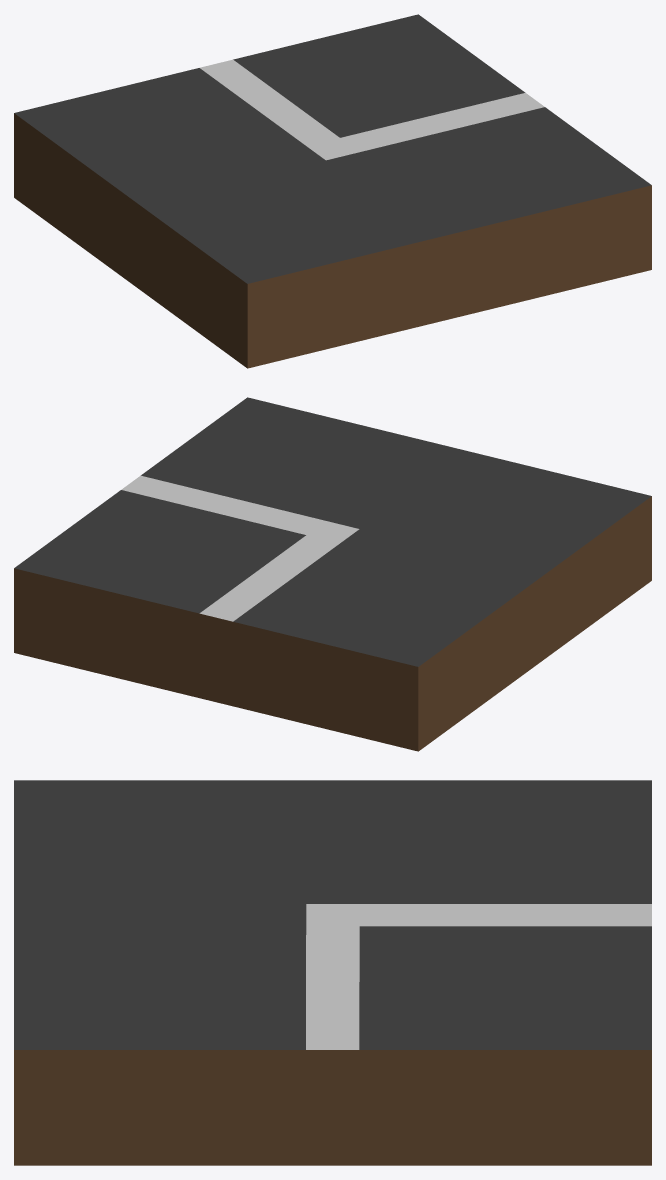
The model's file is road_1_car_line_corner.fbx.
3 renders of one model, top to bottom at view 1: azimuth 30°, elevation 25°; view 2: azimuth 150°, elevation 25°; view 3: azimuth 270°, elevation 25°, orthographic. The views are drawn at different scales.
Visible parts, largest first — view 1: Cube.042; view 2: Cube.042; view 3: Cube.042.
Part boxes in pixels (box(x1,y1,x2,y2)): Cube.042: box(14, 14, 651, 368); Cube.042: box(14, 397, 651, 751); Cube.042: box(14, 780, 651, 1165).
Bounding box in the file's own units: 1000 × 200 × 1000.
Materials: 1 (1 with a texture image).
